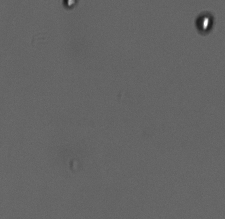Living Cell: (194, 11, 215, 34), (64, 1, 80, 8)
